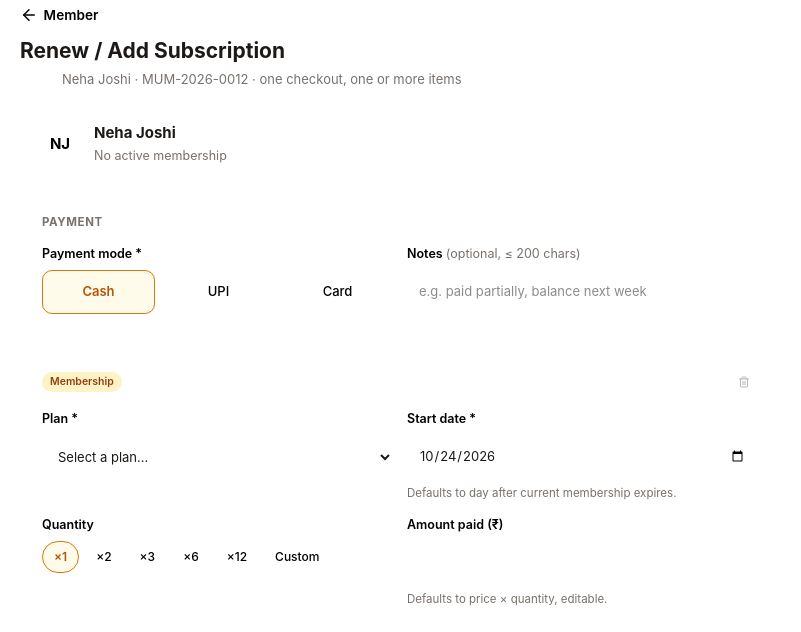
Test case: RenewSubscriptionPage — an item › the amount is editable, shown with thousands separators when not focused
Select "Monthly · 30 days · ₹1,500" in the dropdown labelled "Plan *" at (218, 456), box [42,434,393,478]
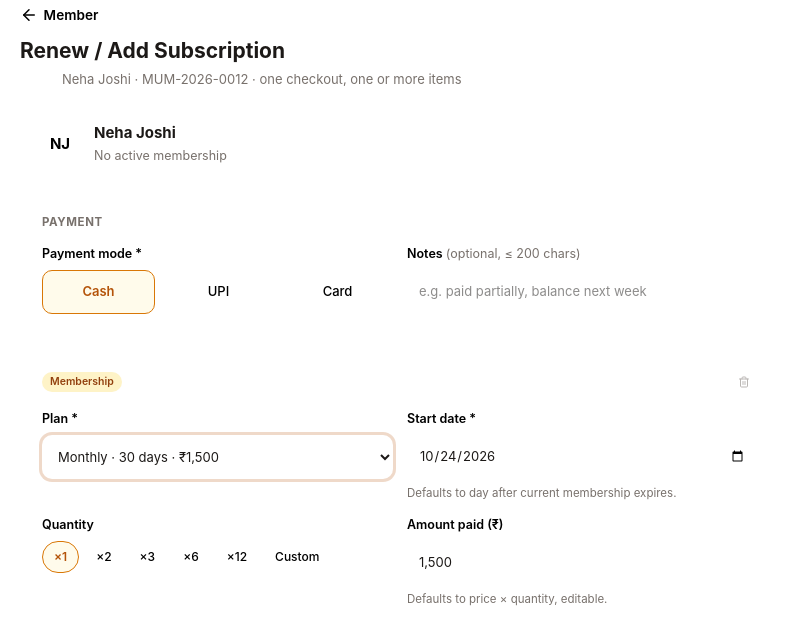
Click the field labelled "Amount paid (₹)".
click(582, 562)  # box [407,540,758,584]
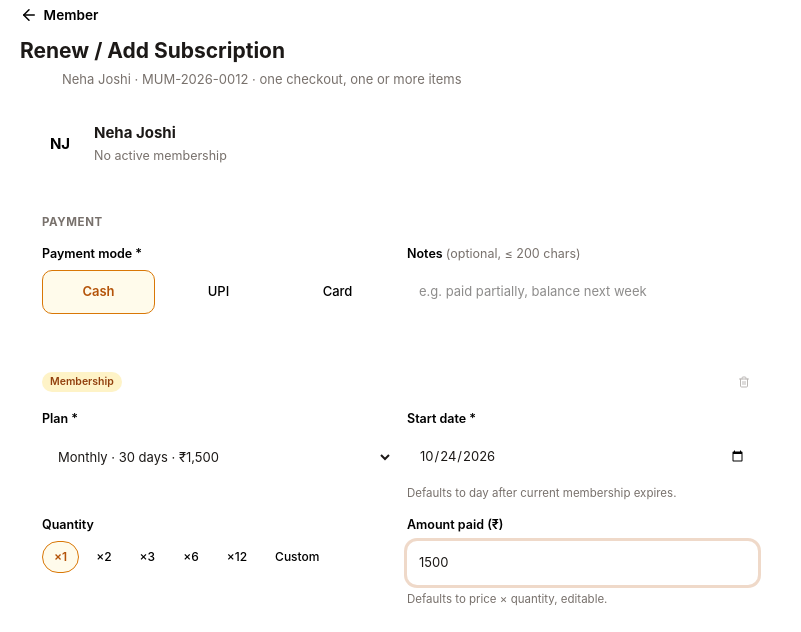
Expected: the field labelled "Amount paid (₹)" holds "1500"
Replace the text in the field labelled "Amount paid (₹)" with "12ab34" at (582, 562), box [407,540,758,584]
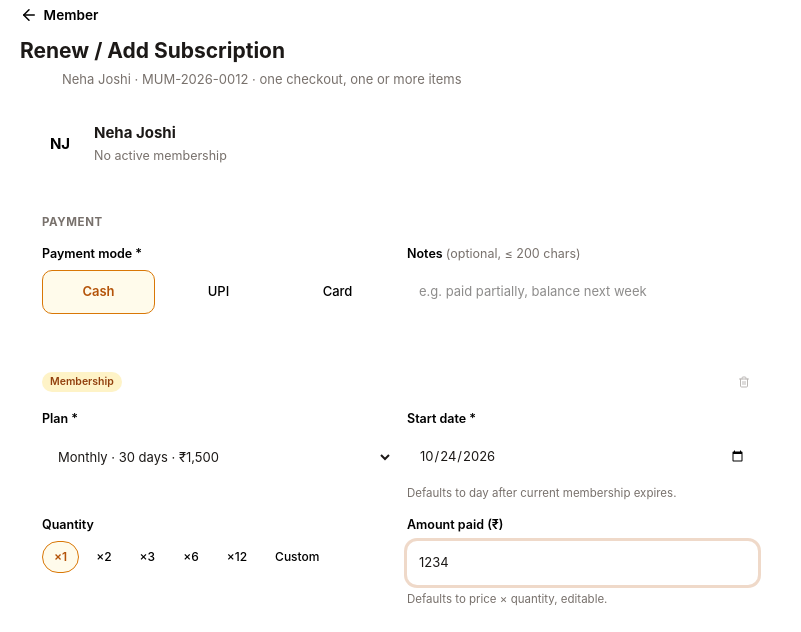
Expected: the field labelled "Amount paid (₹)" holds "1234", [407,540,758,584]
Press Tab
(page scrolled)
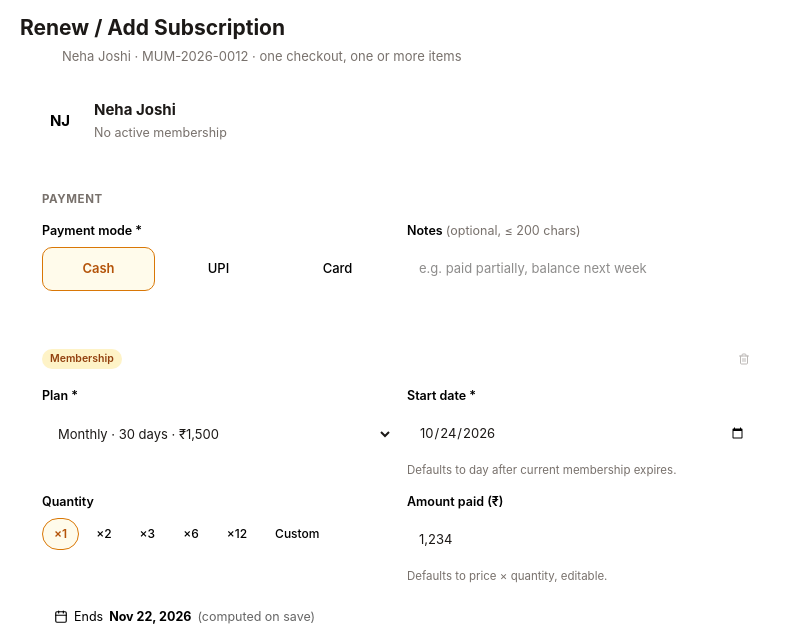
Expected: the field labelled "Amount paid (₹)" holds "1,234", [407,518,758,562]
